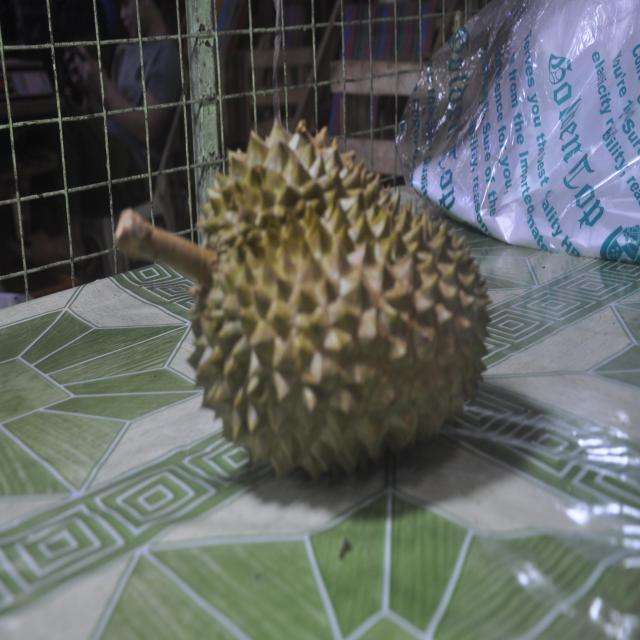mature: (117, 122, 488, 477)
